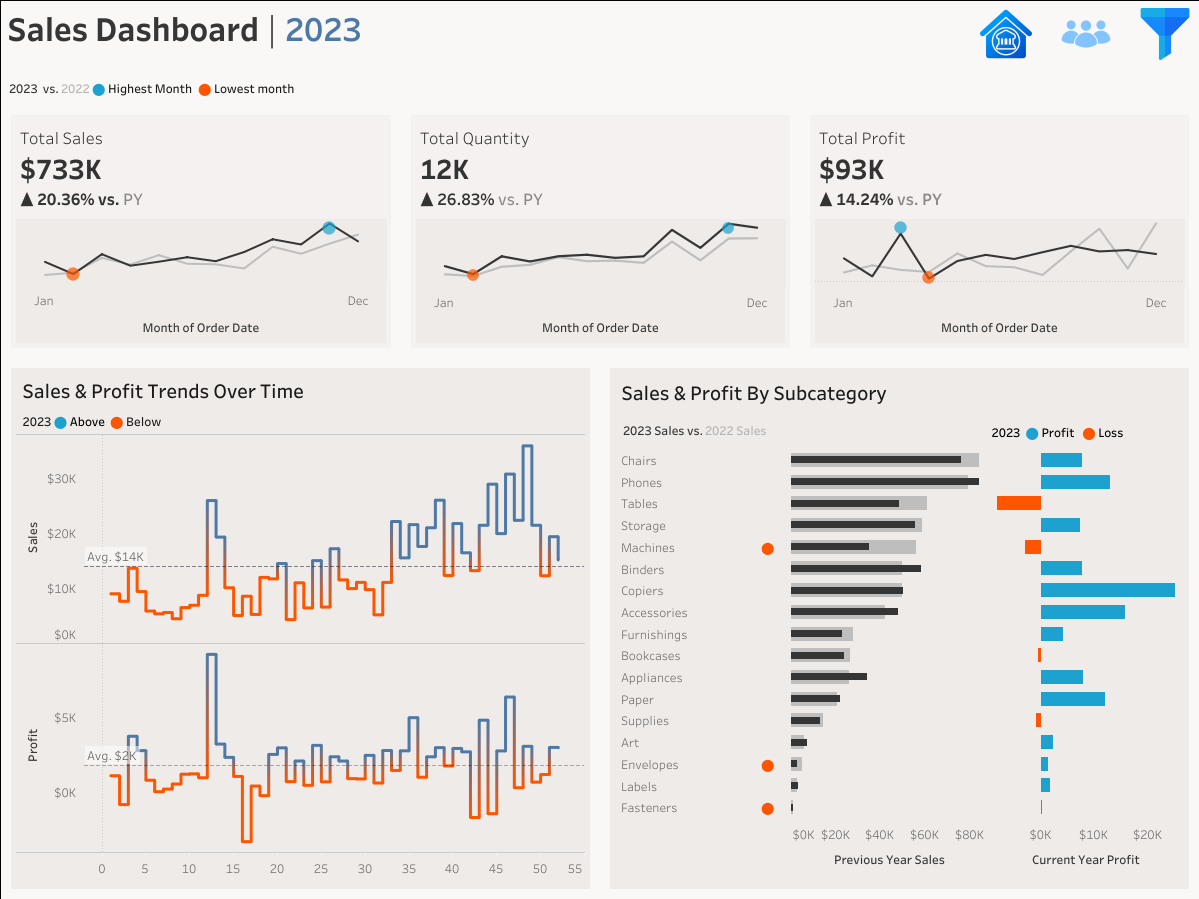

The dashboard page shown, as its layout file describes it:
{"tool":"tableau","page":{"name":"Sales dashboard","canvas":[1200,900],"ordinal":1},"visuals":[{"type":"text","box":[1,1,1198,60]},{"type":"dashboard-object","box":[966,4,80,60]},{"type":"dashboard-object","box":[1046,4,80,60]},{"type":"dashboard-object","box":[1126,4,79,60]},{"type":"blank","box":[8,8,194,36]},{"type":"text","box":[8,44,194,41]},{"type":"worksheet","title":"Legend KPI","mark":"Automatic","box":[1,61,1198,54]},{"type":"parameter","param":"[Parameters].[Parameter 1]","box":[8,85,194,74]},{"type":"worksheet","title":"Sales KPI","mark":"Line","rows":["Calculation_1001488005570469892"],"cols":["Order Date"],"box":[1,115,400,243]},{"type":"worksheet","title":"Ouantity KPI","mark":"Line","rows":["Max/Min Profit (copy)_1001488005787123732"],"cols":["Order Date"],"box":[401,115,399,243]},{"type":"worksheet","title":"Profit KPI","mark":"Line","rows":["Max/Min Sales (copy)_1001488005689561102"],"cols":["Order Date"],"box":[800,115,399,243]},{"type":"blank","box":[8,159,194,38]},{"type":"text","box":[8,197,194,36]},{"type":"filter","title":"Sales KPI","param":"[federated.02ff8am041xuap1esdykf0pzir3w].[none:Category:nk]","box":[8,233,194,70]},{"type":"filter","title":"Sales KPI","param":"[federated.02ff8am041xuap1esdykf0pzir3w].[none:Sub-Category:nk]","box":[8,303,194,70]},{"type":"blank","box":[8,373,194,38]},{"type":"text","box":[16,373,569,47]},{"type":"text","box":[615,373,569,39]},{"type":"text","box":[8,411,194,36]},{"type":"worksheet","title":"Legend Subcategory","mark":"Automatic","box":[615,412,370,36.5]},{"type":"text","box":[985,412,199,36.5]},{"type":"text","box":[16,420,569,33]},{"type":"filter","title":"Sales KPI","param":"[federated.02ff8am041xuap1esdykf0pzir3w].[none:Region:nk]","box":[8,447,194,70]},{"type":"worksheet","title":"Subcategory Comparison","mark":"Bar","rows":["Sub-Category","Calculation_801922247644647424"],"cols":["current year sales (copy)_1001488004676485121","Calculation_1001488004674674688","Current Year Sales (copy)_1001488005689290763"],"box":[615,448.5,569,426]},{"type":"worksheet","title":"Weekly Trends","mark":"Automatic","rows":["Calculation_1001488004674674688","Current Year Sales (copy)_1001488005689290763"],"cols":["Order Date"],"box":[16,453,569,431]},{"type":"filter","title":"Sales KPI","param":"[federated.02ff8am041xuap1esdykf0pzir3w].[none:State:nk]","box":[8,517,194,70]},{"type":"filter","title":"Sales KPI","param":"[federated.02ff8am041xuap1esdykf0pzir3w].[none:City:nk]","box":[8,587,194,70]}]}

Visuals, with their boxes in screenshot pixels (x1, y1, x2, y2), scaled from the page's 1200x900 canvas onto the 1199x899 screenshot:
text: x1=1, y1=1, x2=1198, y2=61
dashboard-object: x1=965, y1=4, x2=1045, y2=64
dashboard-object: x1=1045, y1=4, x2=1125, y2=64
dashboard-object: x1=1125, y1=4, x2=1198, y2=64
blank: x1=8, y1=8, x2=202, y2=44
text: x1=8, y1=44, x2=202, y2=85
"Legend KPI" worksheet: x1=1, y1=61, x2=1198, y2=115
parameter: x1=8, y1=85, x2=202, y2=159
"Sales KPI" worksheet (Line marks): x1=1, y1=115, x2=401, y2=358
"Ouantity KPI" worksheet (Line marks): x1=401, y1=115, x2=799, y2=358
"Profit KPI" worksheet (Line marks): x1=799, y1=115, x2=1198, y2=358
blank: x1=8, y1=159, x2=202, y2=197
text: x1=8, y1=197, x2=202, y2=233
"Sales KPI" filter: x1=8, y1=233, x2=202, y2=303
"Sales KPI" filter: x1=8, y1=303, x2=202, y2=373
blank: x1=8, y1=373, x2=202, y2=411
text: x1=16, y1=373, x2=585, y2=420
text: x1=614, y1=373, x2=1183, y2=412
text: x1=8, y1=411, x2=202, y2=447
"Legend Subcategory" worksheet: x1=614, y1=412, x2=984, y2=448
text: x1=984, y1=412, x2=1183, y2=448
text: x1=16, y1=420, x2=585, y2=452
"Sales KPI" filter: x1=8, y1=447, x2=202, y2=516
"Subcategory Comparison" worksheet (Bar marks): x1=614, y1=448, x2=1183, y2=874
"Weekly Trends" worksheet: x1=16, y1=452, x2=585, y2=883
"Sales KPI" filter: x1=8, y1=516, x2=202, y2=586
"Sales KPI" filter: x1=8, y1=586, x2=202, y2=656
